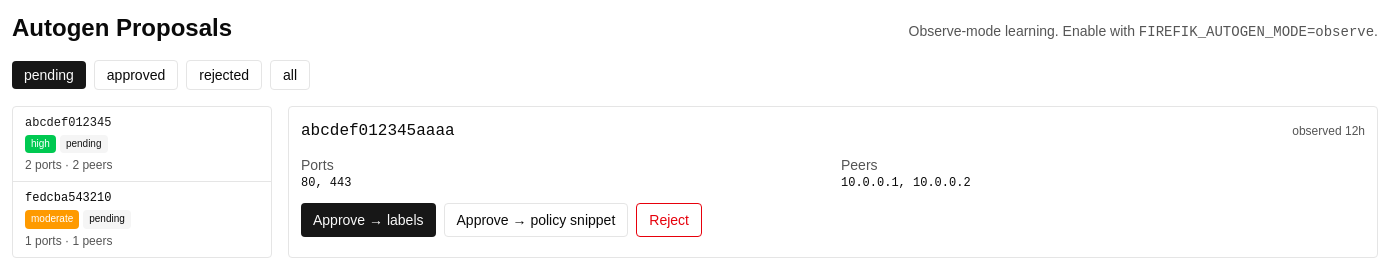
ProposalsPage › shows an empty bucket message when no proposals match the filter
Expected: the text "abcdef012345" is shown, [25,116,111,130]
What coordinates should you click on to do the following:
click the button "rejected"
I would click on:
 (224, 75)
Its box is [186,60,262,90].
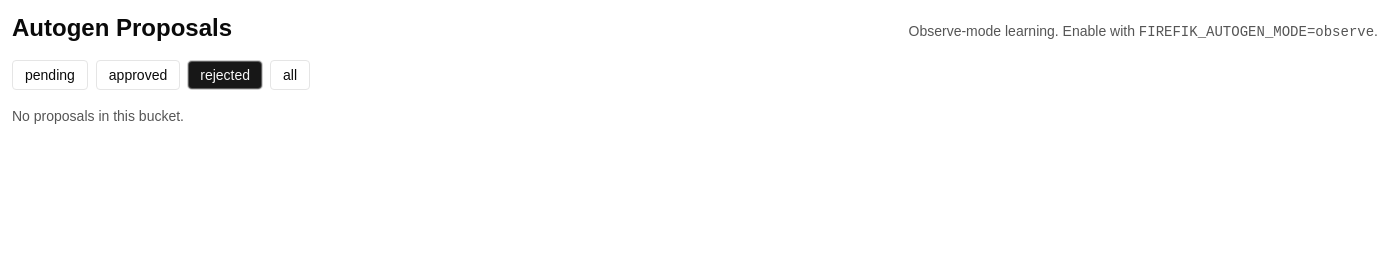
Now the text "No proposals in this bucket." is shown, box [12,108,184,124]
